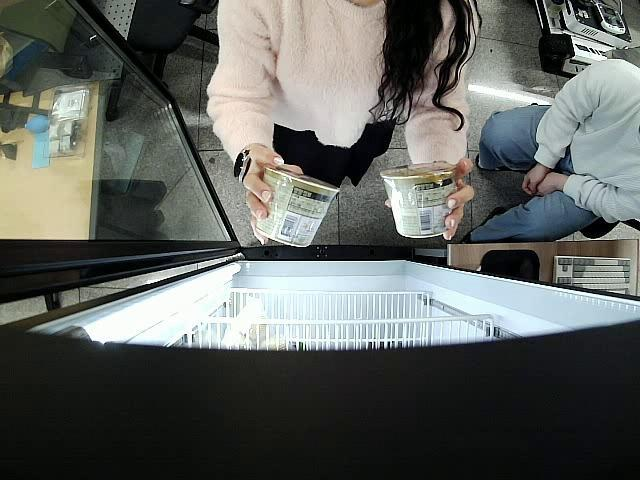04_chapagetti_S: (258, 161, 342, 250), (382, 161, 462, 240)
